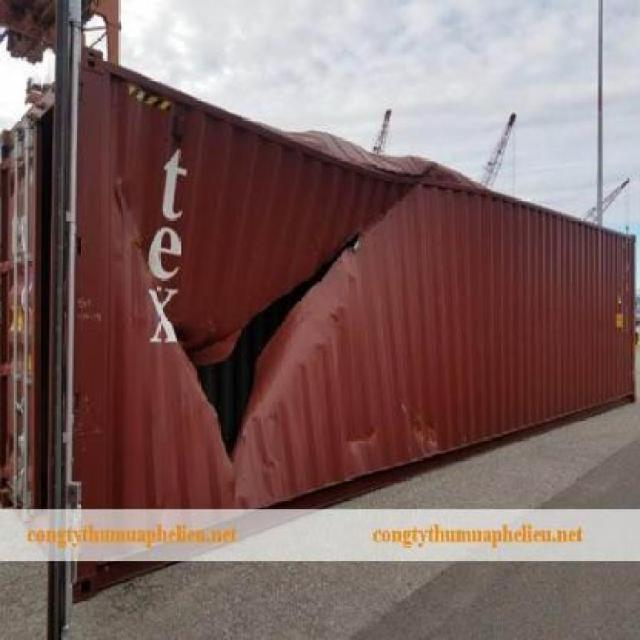hole: (183, 231, 363, 466)
